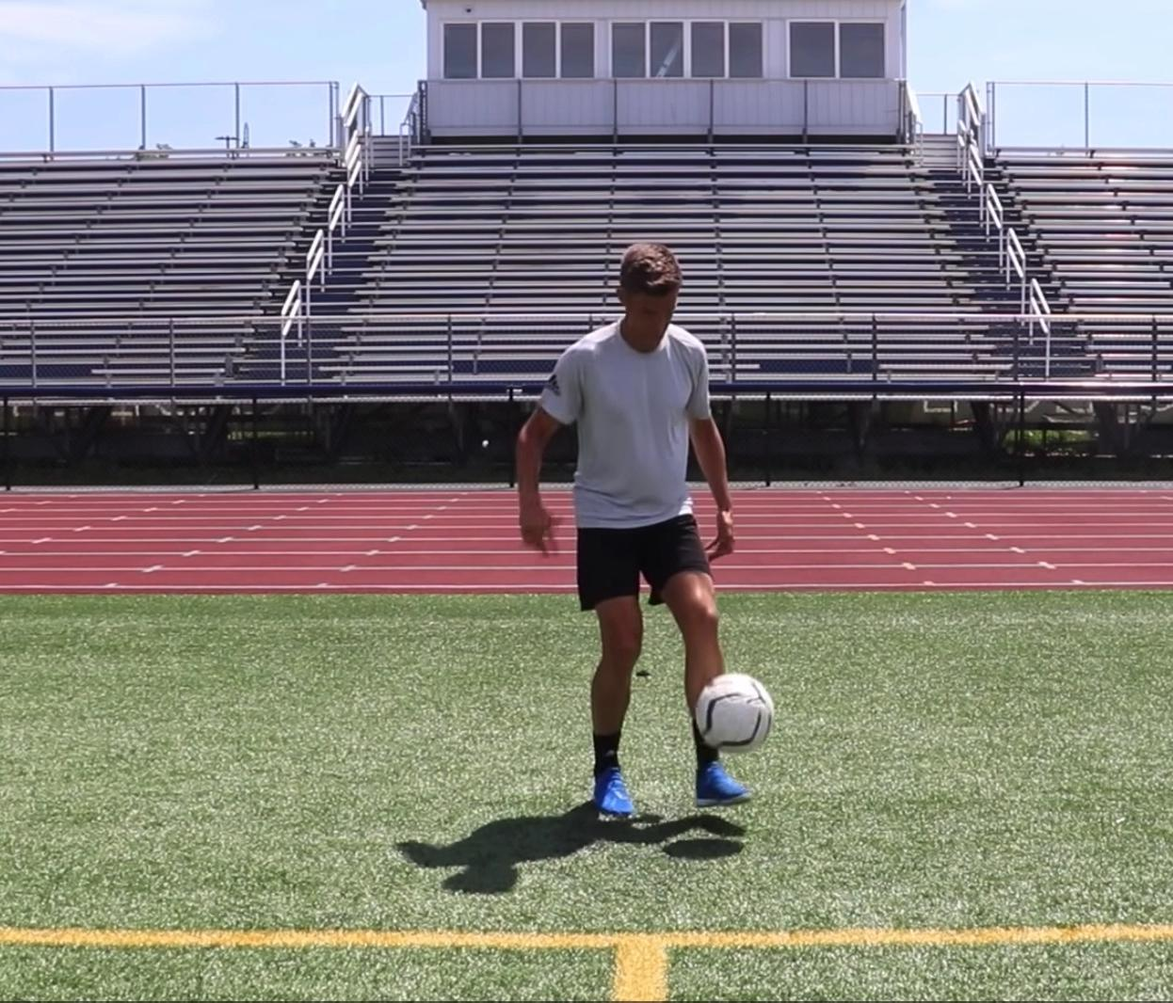ball: (697, 674, 773, 751)
foot: (689, 758, 758, 811), (589, 761, 637, 819)
person: (514, 243, 752, 819)
